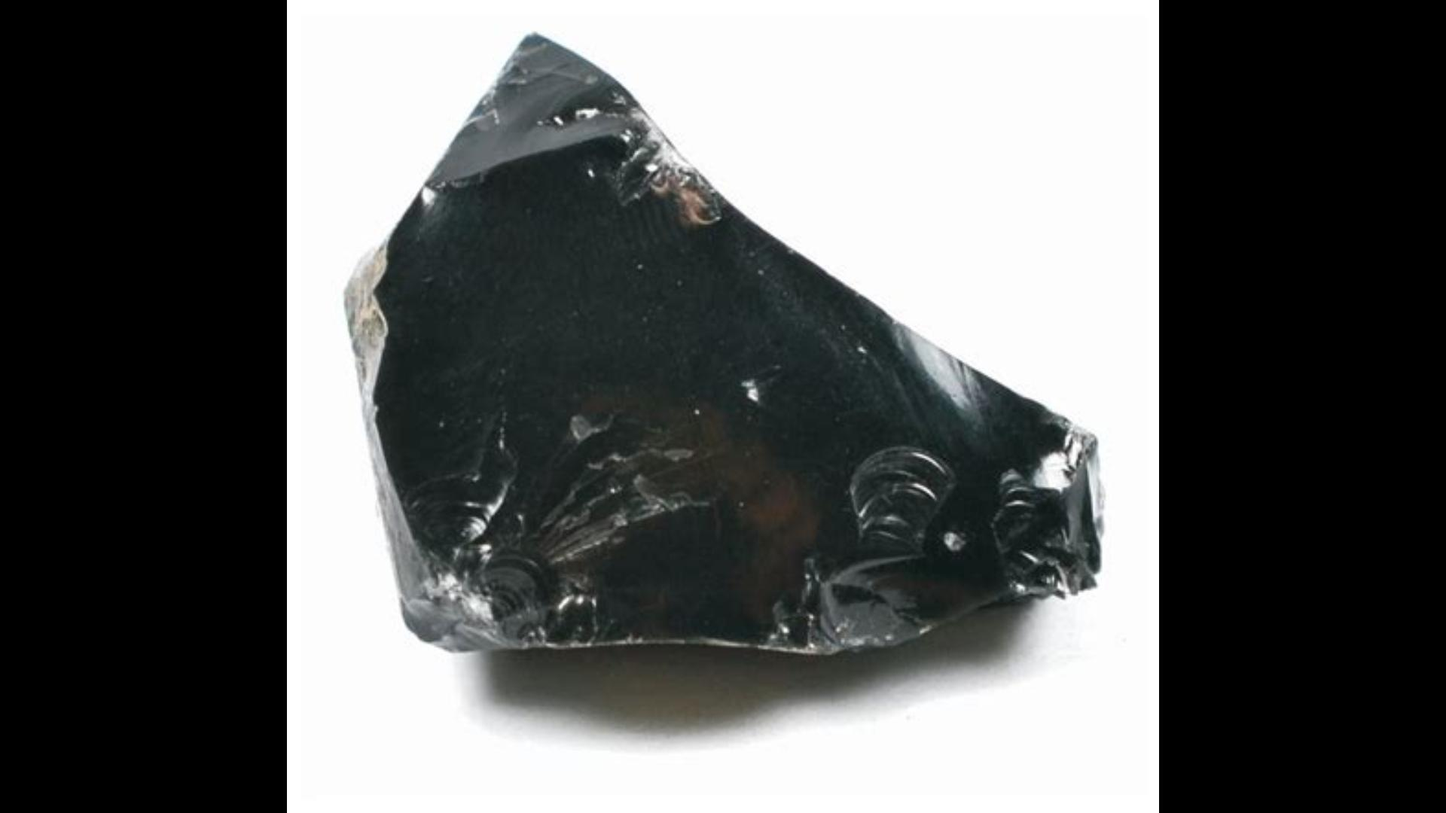rock: (348, 35, 1093, 644)
